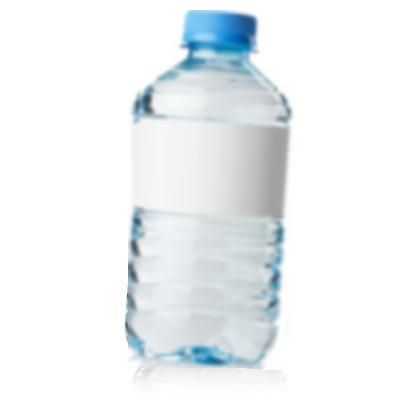plastic-bottles: (129, 11, 302, 370)
